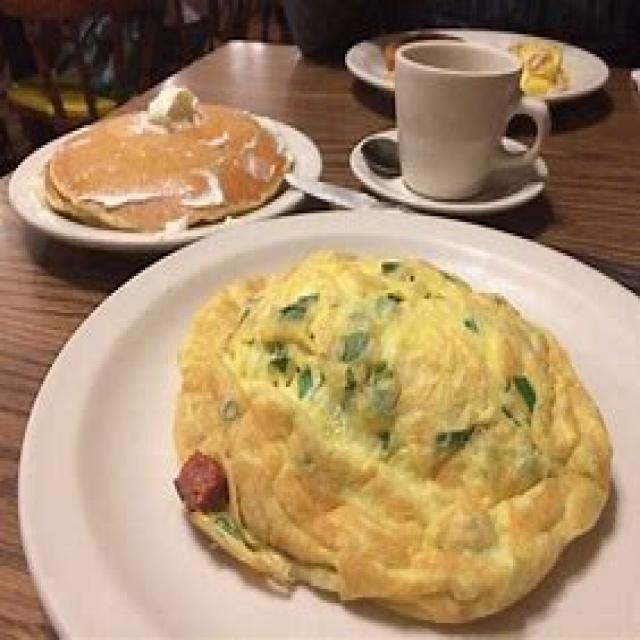Omelette: (154, 241, 619, 626)
Pancakes: (33, 96, 294, 231)
